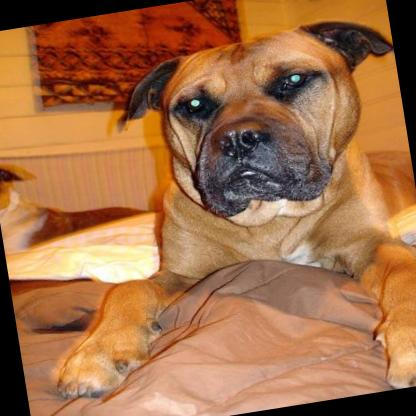bull_mastiff: (2, 9, 416, 416)
